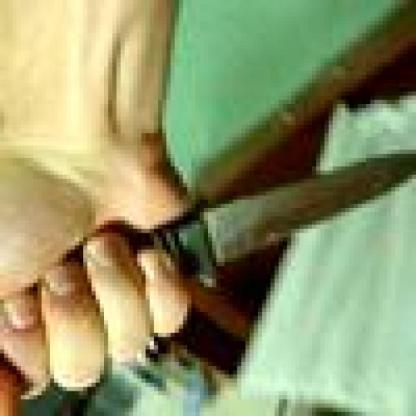Knife: (8, 129, 416, 366)
